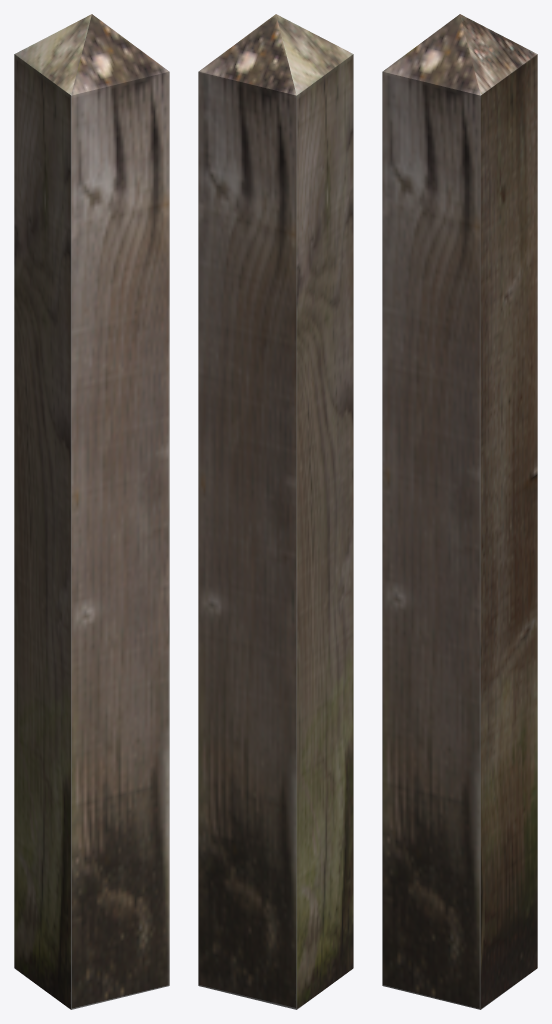
File: SM_PRP_WoodenPost_A_01.fbx
The picture shows the model from 3 angles, left to right: view 1: azimuth 30°, elevation 25°; view 2: azimuth 150°, elevation 25°; view 3: azimuth 330°, elevation 25°; orthographic projection.
Parts seen in each view (by area): view 1: SM_PRP_WoodenPost_A_01; view 2: SM_PRP_WoodenPost_A_01; view 3: SM_PRP_WoodenPost_A_01.
Boxes of the visible parts, left/top/right/bottom form: SM_PRP_WoodenPost_A_01: left=14, top=14, right=169, bottom=1009; SM_PRP_WoodenPost_A_01: left=198, top=14, right=353, bottom=1009; SM_PRP_WoodenPost_A_01: left=382, top=14, right=537, bottom=1009.
Size of the model in its own units: 11.25 by 11.25 by 105.
